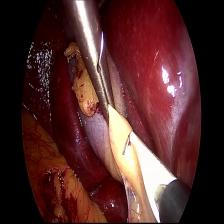Grasper: (66, 7, 122, 126)
Hook: (123, 130, 180, 220)
